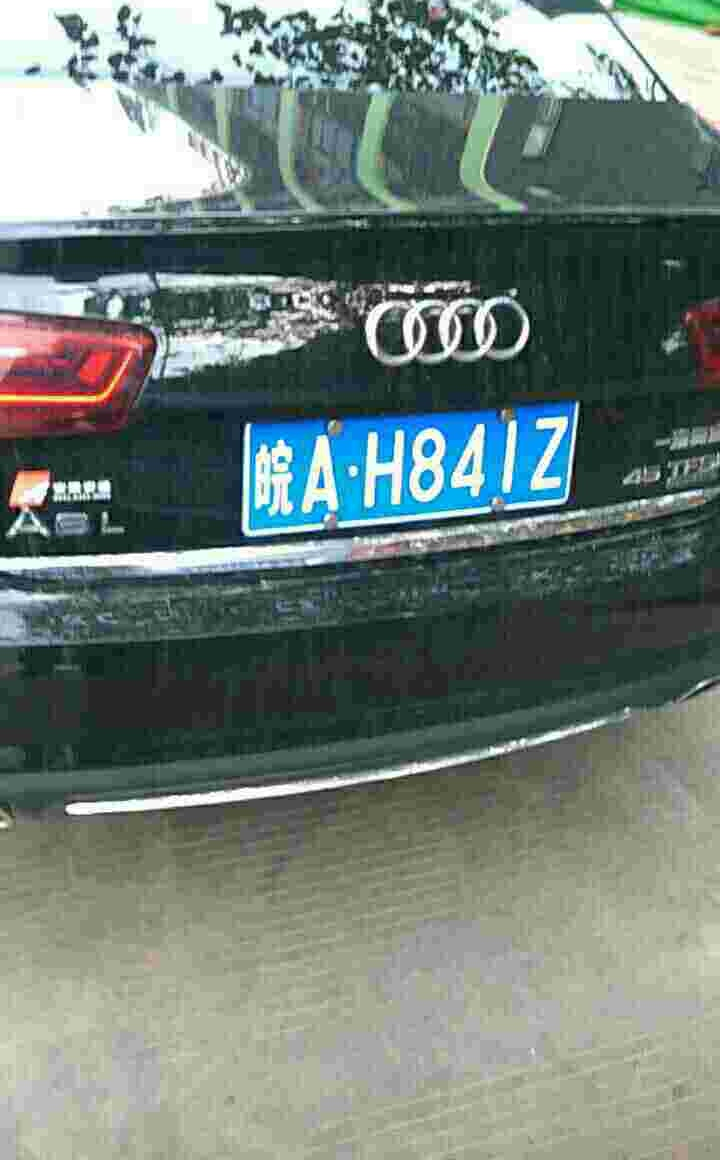license_plate: (233, 399, 587, 530)
